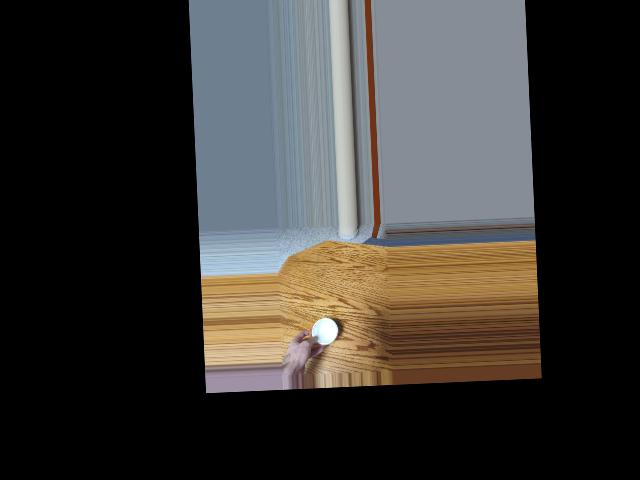cotage: (310, 317, 338, 347)
